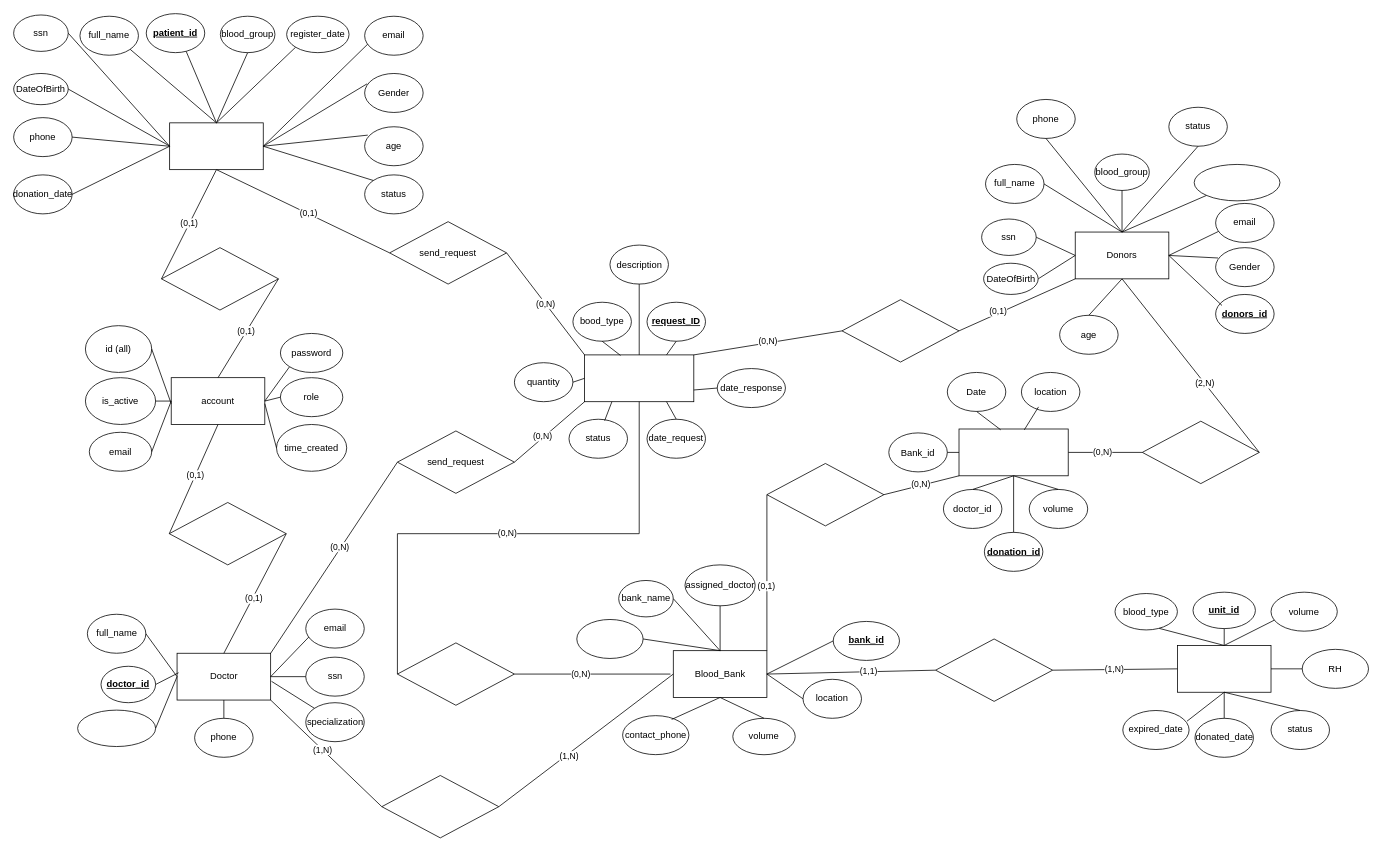
This 1382x852 diagram has some shape labels left out. Each missing label, with the centre of its shape:
"assigned_mission" belongs at point (116, 728).
"Blood_Inventory" belongs at point (1224, 668).
"contact_email" belongs at point (609, 638).
"create_account" belongs at point (219, 278).
"created_account" belongs at point (227, 533).
"Donation_Event" belongs at point (1013, 452).
"enroll_in" belongs at point (1200, 452).
"give_request" belongs at point (900, 330).
"last_donation_date" belongs at point (1236, 182).
"manage_reuqest" belongs at point (455, 673).
"organize" belongs at point (825, 494).
"Patients" belongs at point (216, 146).
"Request" belongs at point (639, 378).
"Store_at" belongs at point (994, 669).
"work_at" belongs at point (440, 806).
